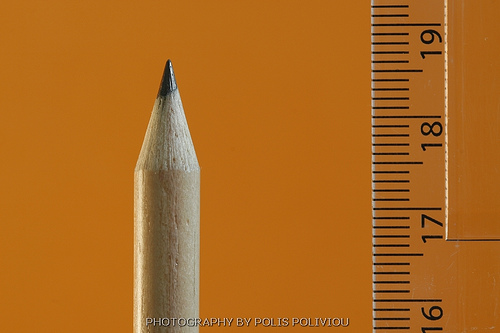pen_tip: (128, 55, 208, 201)
